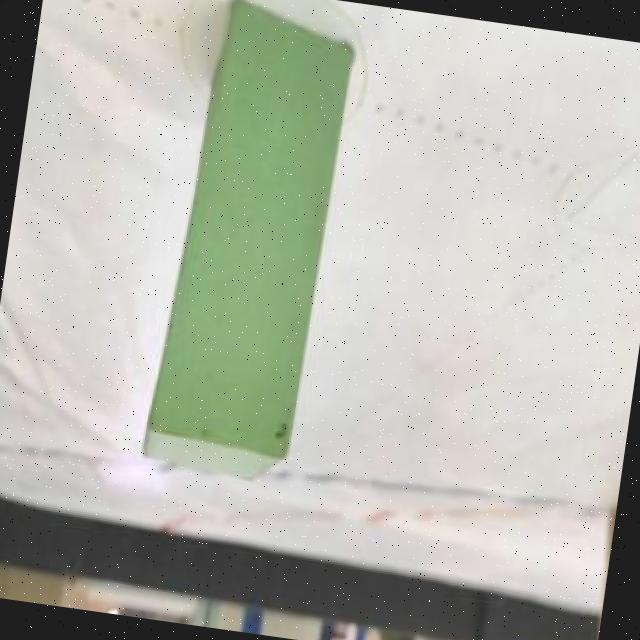greenbox: (136, 0, 363, 491)
